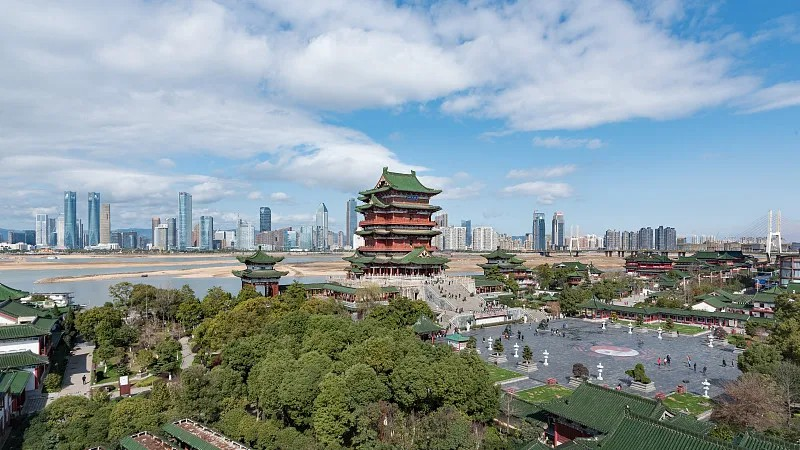Teng: (341, 167, 452, 276)
